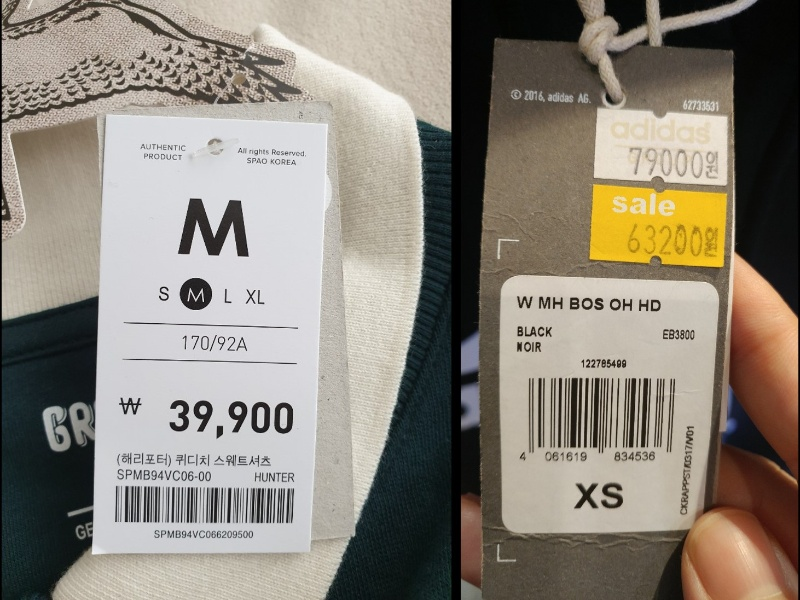tag: (478, 40, 736, 599), (95, 112, 329, 553)
text: (165, 395, 295, 441), (626, 220, 720, 260), (626, 142, 720, 181), (512, 291, 665, 314), (114, 449, 273, 469), (571, 478, 626, 514), (231, 144, 309, 169), (150, 527, 256, 543), (114, 466, 213, 483), (178, 331, 250, 354), (137, 139, 189, 165), (578, 354, 631, 373), (240, 283, 268, 312), (612, 448, 659, 465), (659, 325, 698, 345), (252, 469, 295, 484), (542, 450, 589, 462), (514, 323, 552, 337), (515, 340, 543, 354)
